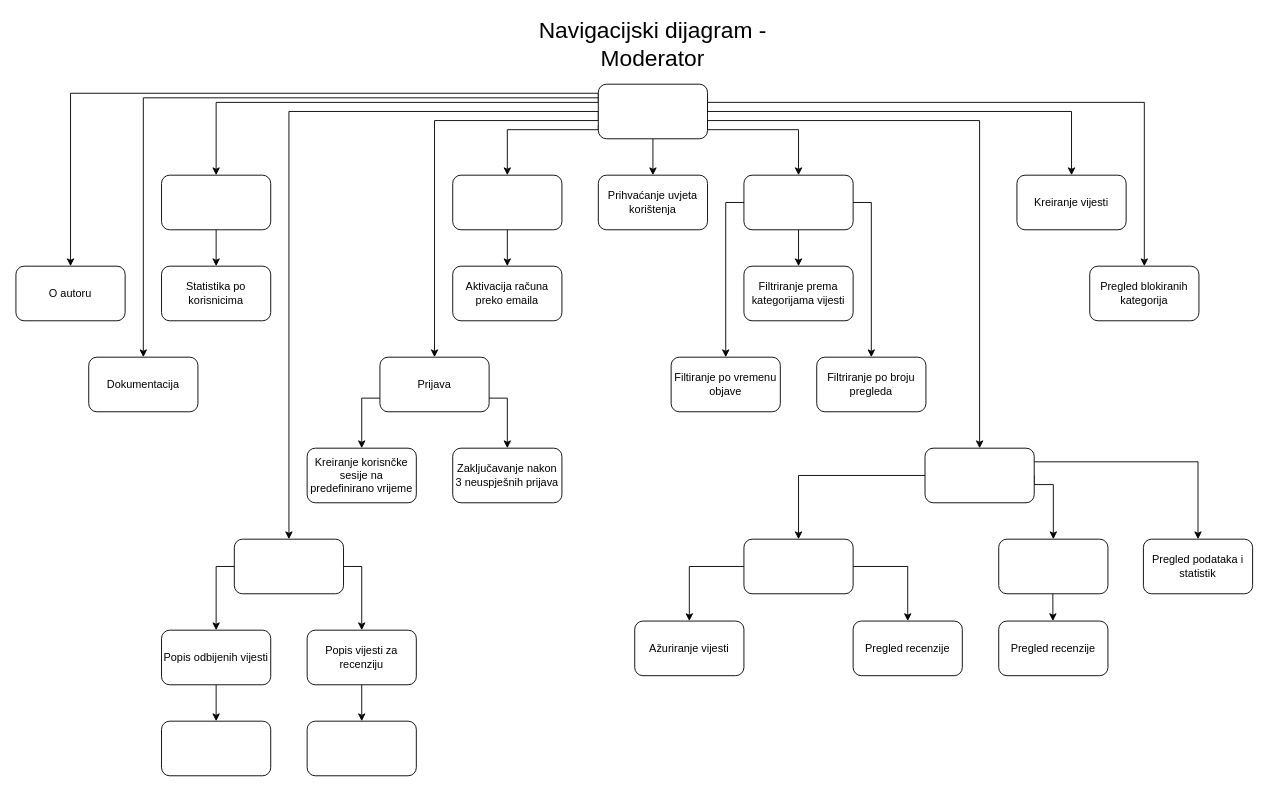
Some shapes in this 1269 by 792 pixel diagram are drawn without their labels. Here are the shapes that lost their labels. From the top down, the centre of each, then its label:
At point 652,111: "Početna".
At point 216,202: "Pregled korisnika u kategoriji".
At point 507,202: "Registracija".
At point 798,202: "Pregled vijesti".
At point 979,475: "Pregled vlastitih vijesti".
At point 288,566: "Popis vijesti u kategoriji".
At point 798,566: "Pregled vijesti koje je kreirao".
At point 1053,566: "Pregled vijesti u kojima je naved kao autor".
At point 216,748: "Blokiranje korisnika".
At point 361,748: "Recenzija vijesti".
